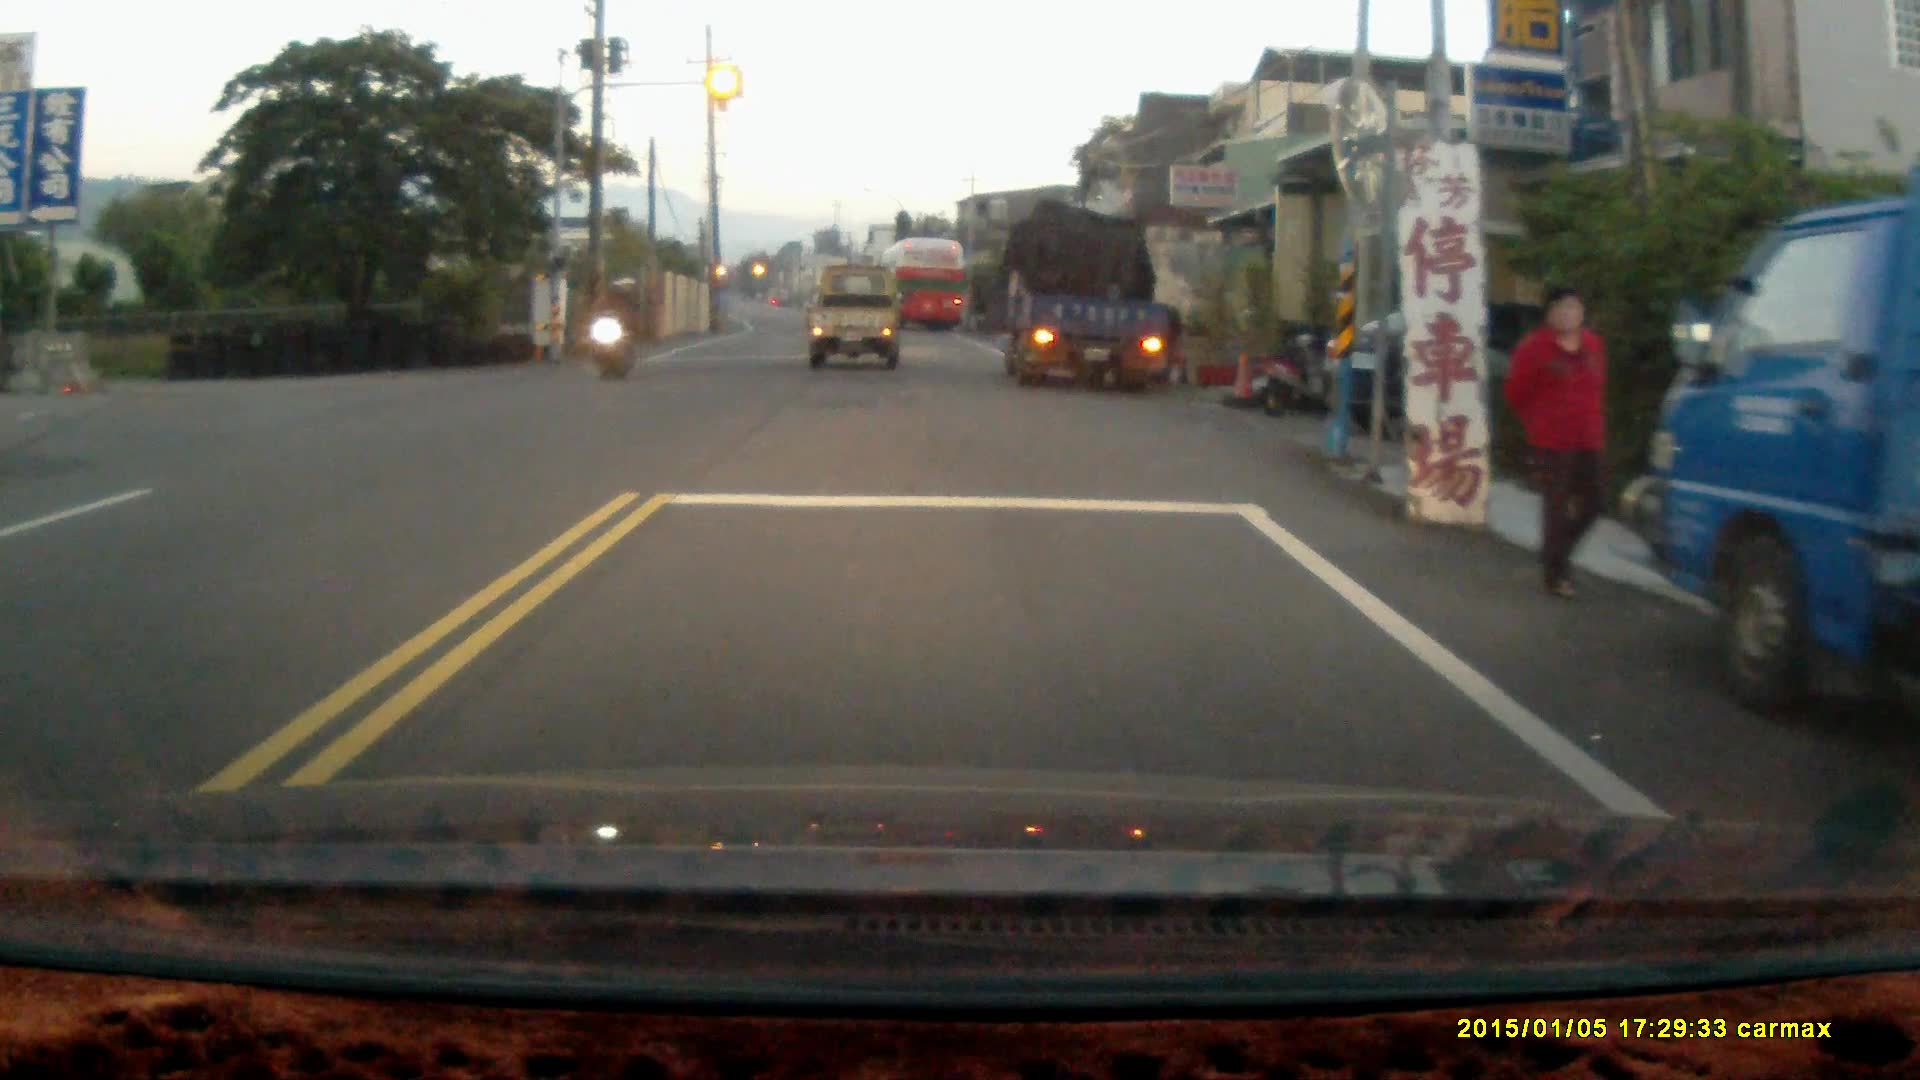pedestrian: (1504, 279, 1609, 598)
rider: (584, 275, 639, 382)
vehicle: (1649, 194, 1920, 677), (1327, 290, 1654, 443), (996, 199, 1178, 389), (806, 263, 901, 376), (878, 234, 971, 330)
